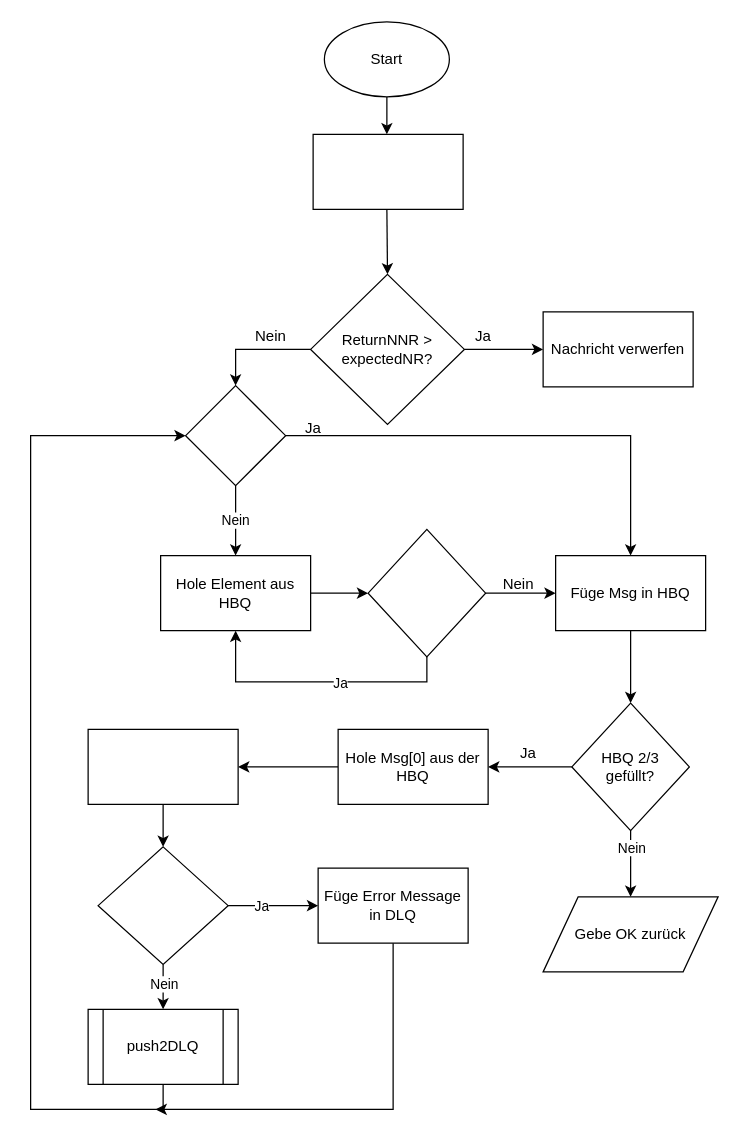
This 740x1141 diagram has some shape labels left out. The shapes that lost their labels are listed below. From the top down, each one's centre as x and y in pixels, then its label:
point 387,171: DLQ (expectedNr(Queue))
point 235,435: Ist die HBQ leer?
point 426,592: Gibt es weitere Elemente?
point 162,766: Hole expectedNR aus DLQ
point 162,905: expectedNR < Msg[0]?
